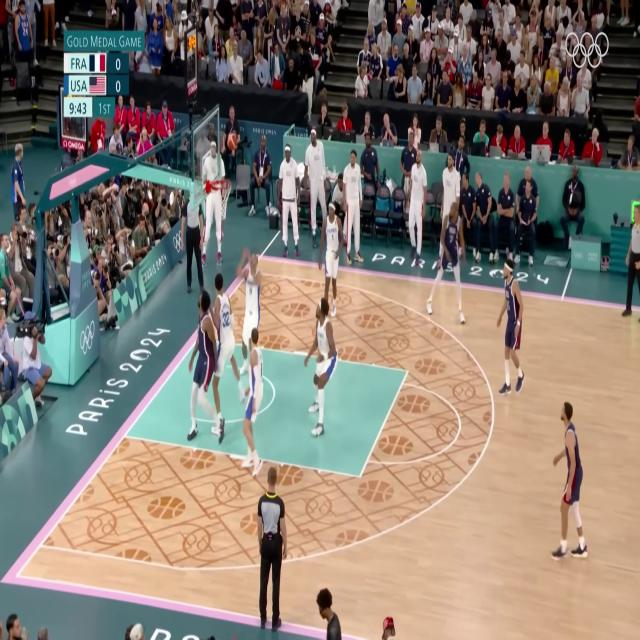player: (543, 398, 594, 570), (490, 256, 531, 420), (188, 282, 225, 442), (307, 298, 344, 454), (205, 270, 242, 424), (236, 231, 269, 374), (437, 196, 469, 315), (244, 327, 268, 482), (325, 194, 349, 323)
